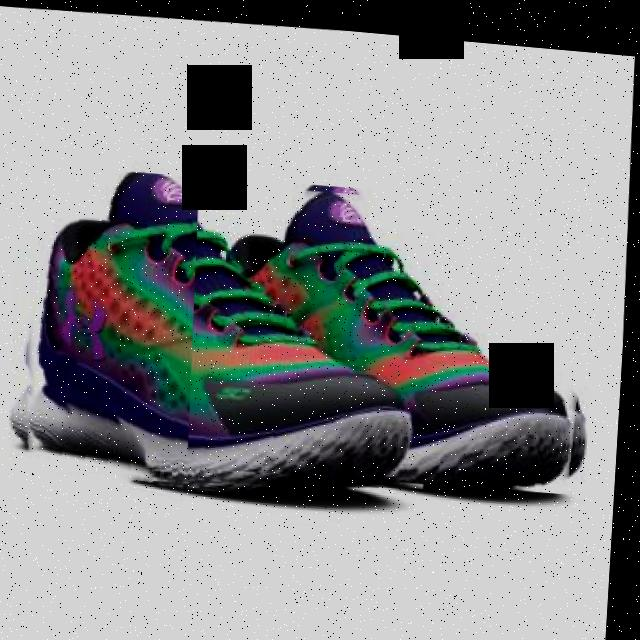shoe: (8, 156, 442, 504), (187, 170, 604, 491)
